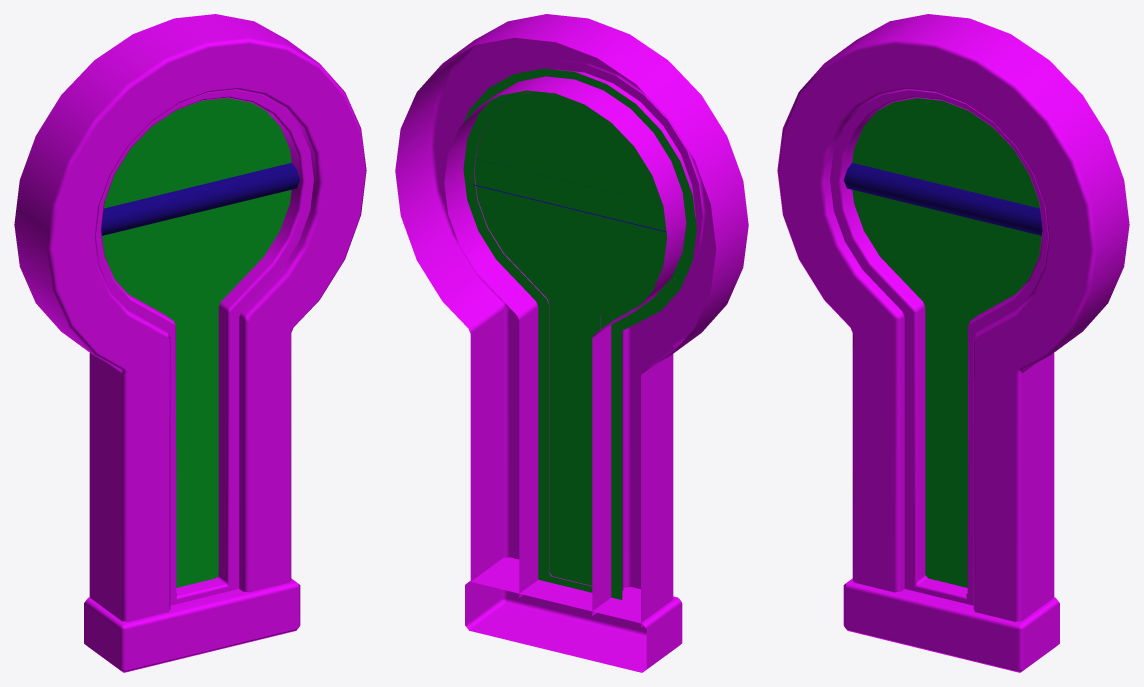
The model's file is Fenetre_Simple_4x4x0_06.FBX.
3 views of the same model, side by side, from view 1: azimuth 30°, elevation 25°; view 2: azimuth 150°, elevation 25°; view 3: azimuth 330°, elevation 25° (orthographic).
Parts seen in each view (by area): view 1: Fenetre_Simple_4x4x0_06; view 2: Fenetre_Simple_4x4x0_06; view 3: Fenetre_Simple_4x4x0_06.
Boxes of the visible parts, x1=… form: Fenetre_Simple_4x4x0_06: x1=14, y1=14, x2=366, y2=672; Fenetre_Simple_4x4x0_06: x1=395, y1=14, x2=748, y2=672; Fenetre_Simple_4x4x0_06: x1=777, y1=14, x2=1129, y2=672.
Bounding box in the file's own units: 113 × 205 × 23.25.
